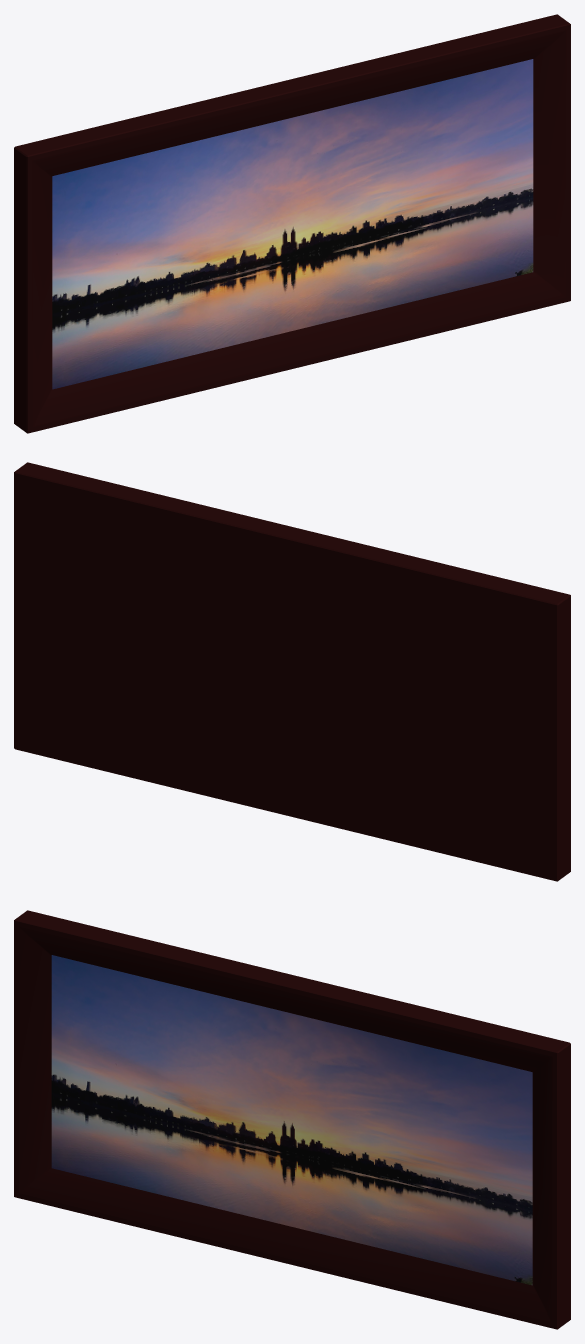
The model's file is aws_PortraitD_01_visual.DAE.
3 views of the same model, one above another, from view 1: azimuth 30°, elevation 25°; view 2: azimuth 150°, elevation 25°; view 3: azimuth 330°, elevation 25° (orthographic).
Parts seen in each view (by area): view 1: aws_PortraitD_01_visual; view 2: aws_PortraitD_01_visual; view 3: aws_PortraitD_01_visual.
Part boxes in pixels (left/top/right/bottom): aws_PortraitD_01_visual: left=14, top=14, right=570, bottom=433; aws_PortraitD_01_visual: left=14, top=462, right=570, bottom=881; aws_PortraitD_01_visual: left=14, top=910, right=570, bottom=1329.
Size of the model in its own units: 101 by 4.39 by 49.04.
2 materials, 2 textured.
